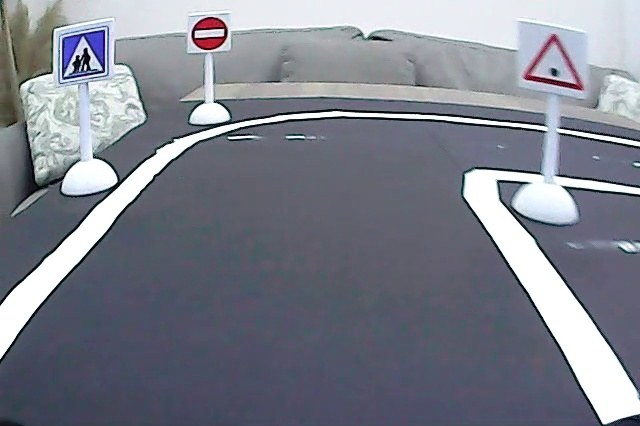do not enter: (187, 16, 230, 52)
green light: (517, 29, 590, 95)
school crossing: (57, 28, 109, 80)
